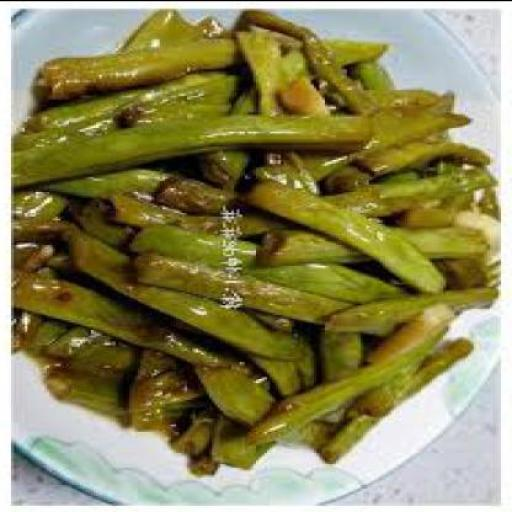biodegradable: (6, 113, 448, 191), (72, 228, 316, 369), (14, 272, 256, 374), (264, 322, 456, 448), (245, 179, 449, 295), (36, 38, 391, 104), (176, 170, 501, 240), (330, 332, 476, 466), (248, 11, 386, 117), (30, 70, 251, 132), (264, 225, 495, 270), (360, 328, 456, 420), (253, 358, 344, 444), (341, 283, 501, 327), (330, 149, 496, 191), (118, 9, 234, 66), (201, 355, 284, 429), (132, 353, 204, 437), (314, 326, 365, 427), (240, 34, 304, 114), (371, 304, 457, 363), (11, 319, 107, 365), (50, 372, 136, 418), (214, 412, 278, 470), (56, 172, 178, 202), (336, 87, 459, 114), (438, 255, 496, 312), (162, 180, 245, 219), (77, 336, 141, 382), (179, 404, 223, 464), (11, 192, 78, 228), (282, 81, 336, 121), (454, 211, 501, 255), (199, 148, 253, 184), (350, 59, 402, 96), (14, 125, 94, 149), (11, 242, 69, 270), (11, 220, 69, 242), (190, 444, 226, 478), (476, 187, 504, 222), (305, 350, 325, 387)
